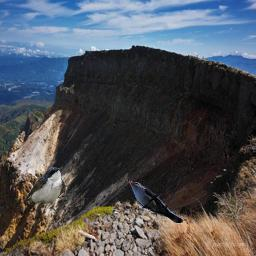Cuckoo: (126, 179, 183, 223)
Swallow: (22, 167, 66, 211)
